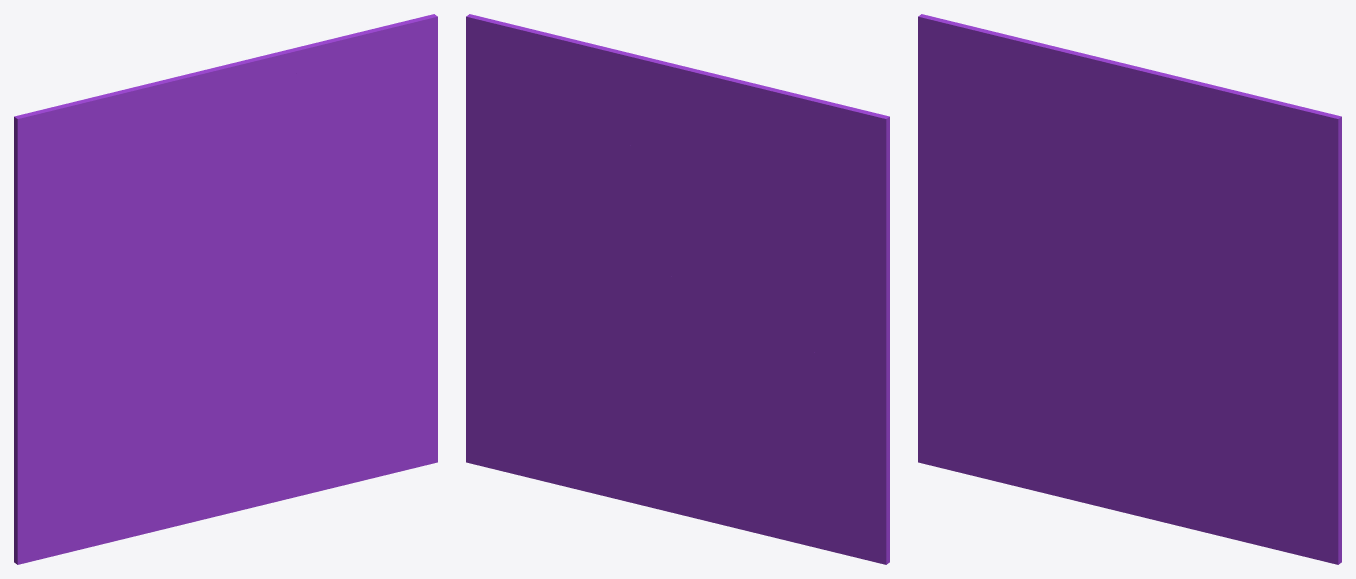
The model's file is Window_41_chunks.fbx.
3 views of the same model, side by side, from view 1: azimuth 30°, elevation 25°; view 2: azimuth 150°, elevation 25°; view 3: azimuth 330°, elevation 25° (orthographic).
Parts seen in each view (by area): view 1: Window_41_1, Window_41_9, Window_41_4, Window_41_5, Window_41_8, Window_41_2, Window_41_6, Window_41_7; view 2: Window_41_1, Window_41_9, Window_41_4, Window_41_5, Window_41_8, Window_41_2, Window_41_6, Window_41_7; view 3: Window_41_1, Window_41_9, Window_41_4, Window_41_5, Window_41_8, Window_41_2, Window_41_6, Window_41_7.
Boxes of the visible parts, left/top/right/bottom form: Window_41_1: left=14, top=46, right=304, bottom=383; Window_41_9: left=249, top=14, right=437, bottom=260; Window_41_4: left=14, top=400, right=219, bottom=564; Window_41_5: left=179, top=304, right=406, bottom=515; Window_41_8: left=341, top=168, right=437, bottom=469; Window_41_2: left=14, top=293, right=241, bottom=406; Window_41_6: left=233, top=224, right=341, bottom=386; Window_41_7: left=325, top=286, right=384, bottom=446; Window_41_1: left=599, top=46, right=889, bottom=383; Window_41_9: left=466, top=14, right=655, bottom=261; Window_41_4: left=685, top=402, right=889, bottom=564; Window_41_5: left=498, top=306, right=720, bottom=515; Window_41_8: left=466, top=172, right=556, bottom=469; Window_41_2: left=662, top=291, right=889, bottom=408; Window_41_6: left=568, top=227, right=676, bottom=379; Window_41_7: left=502, top=258, right=587, bottom=465; Window_41_1: left=918, top=14, right=1207, bottom=289; Window_41_9: left=1149, top=84, right=1341, bottom=315; Window_41_4: left=918, top=304, right=1119, bottom=511; Window_41_5: left=1080, top=311, right=1307, bottom=557; Window_41_8: left=1241, top=270, right=1341, bottom=564; Window_41_2: left=918, top=281, right=1142, bottom=376; Window_41_6: left=1133, top=234, right=1242, bottom=434; Window_41_7: left=1225, top=342, right=1285, bottom=523.
Size of the model in its own units: 1826 by 1851 by 27.2.
